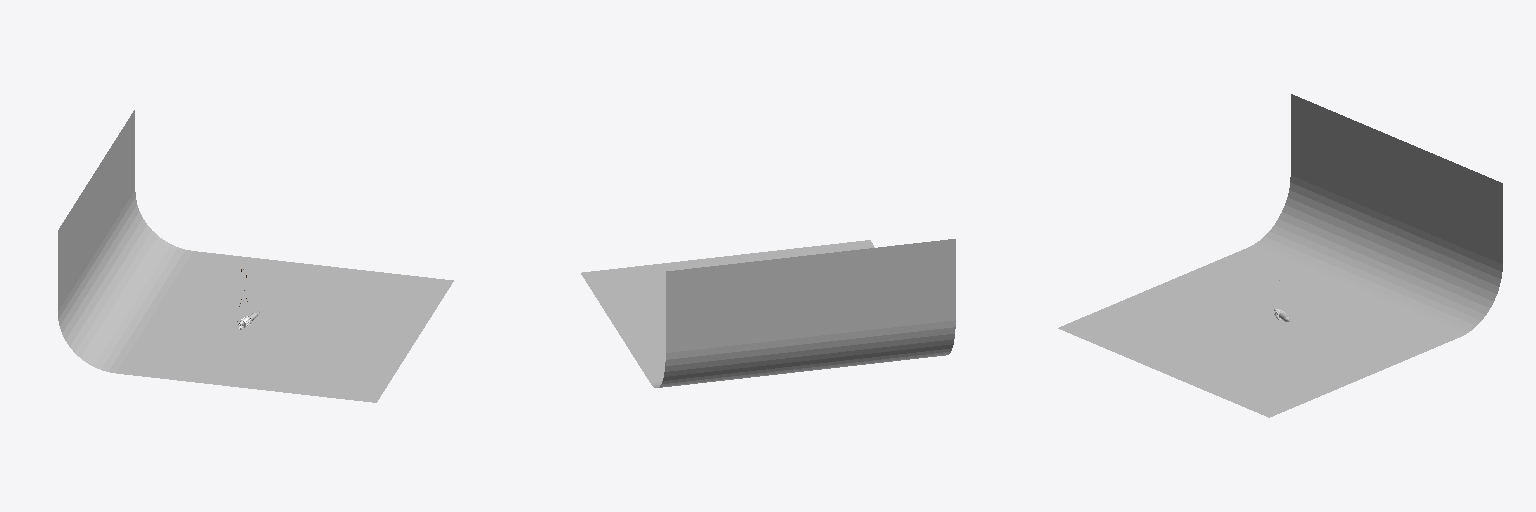
File: Lightbulb.obj
3 renders of one model, left to right at view 1: azimuth 30°, elevation 25°; view 2: azimuth 150°, elevation 25°; view 3: azimuth 270°, elevation 25°, orthographic.
Parts seen in each view (by area): view 1: Background_Circle.001; view 2: Background_Circle.001; view 3: Background_Circle.001.
Part boxes in pixels (x1,y1,x2,y2): Background_Circle.001: (58,110,453,402); Background_Circle.001: (581,239,955,387); Background_Circle.001: (1058,94,1502,417).
Bounding box in the file's own units: 44.55 × 15.06 × 44.55.